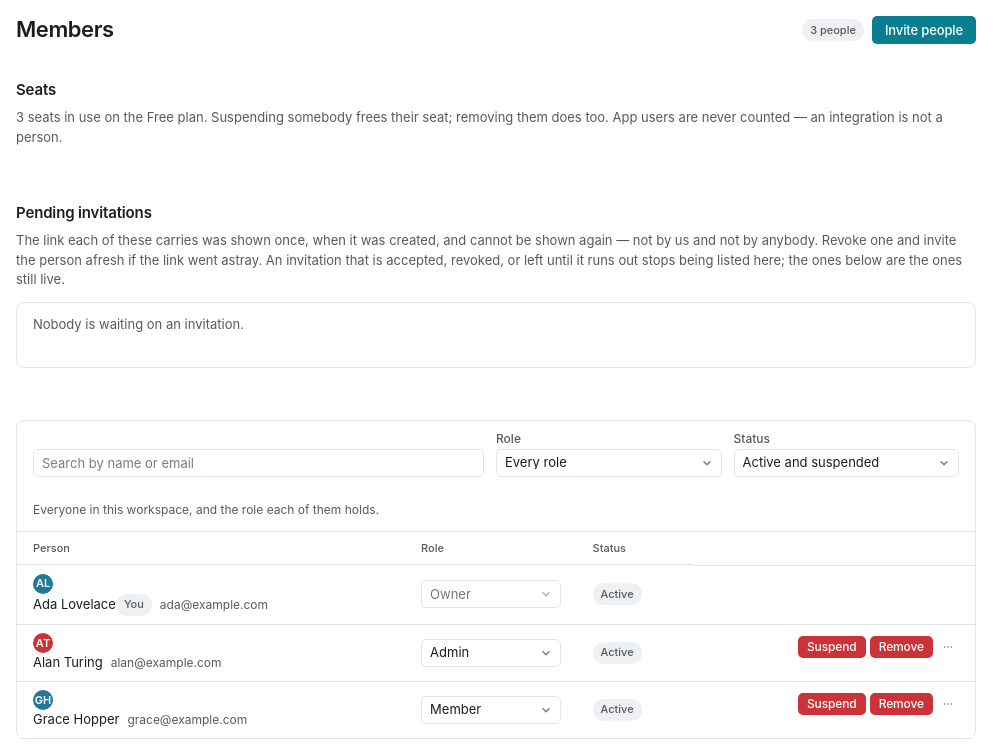
the member table › says nobody matched rather than nobody is here
The image size is (993, 746).
Type "zzzzz" into the search field named "Search people". click: (258, 462)
box: x1=42 y1=450 x2=475 y2=476
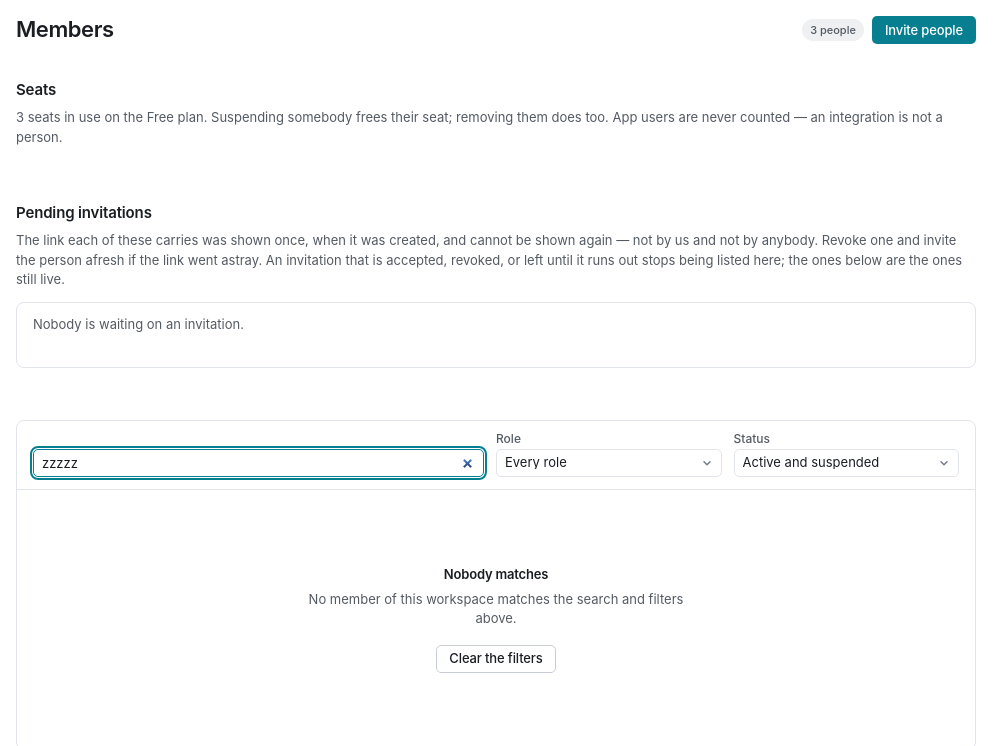
Check: the text "Nobody matches" is shown, box x1=444 y1=566 x2=548 y2=582
